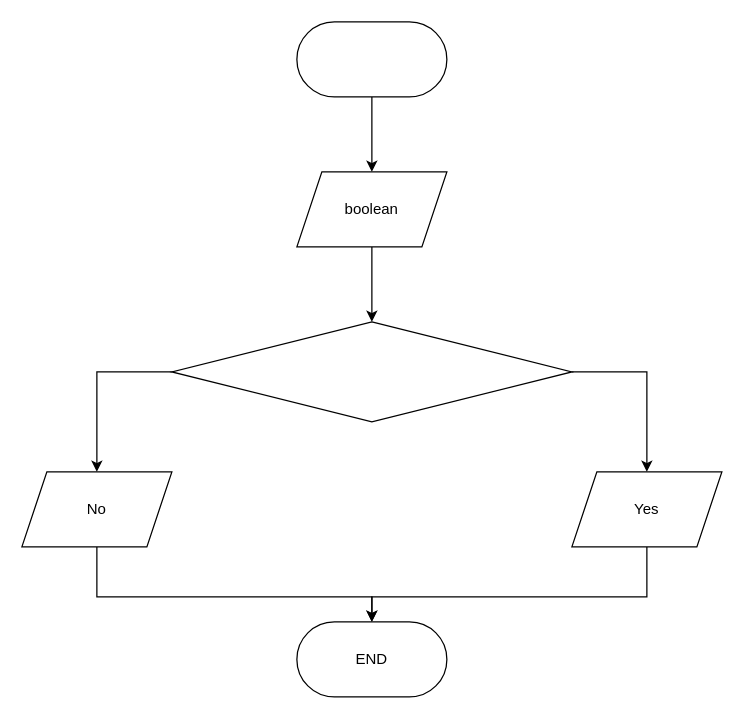
Some shapes in this 744 by 719 pixel diagram are drawn without their labels. The centre of each missing label's shape, as x and y in pixels:
"boolean == true" goes at (371,371).
"Convert boolen" goes at (371,59).
